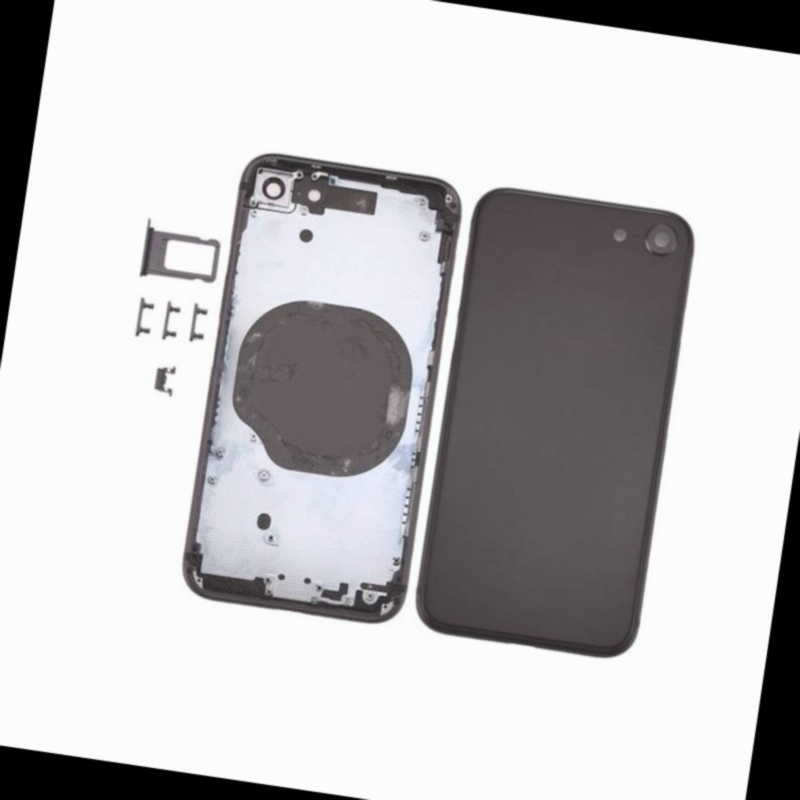iphone: (122, 134, 417, 617)
